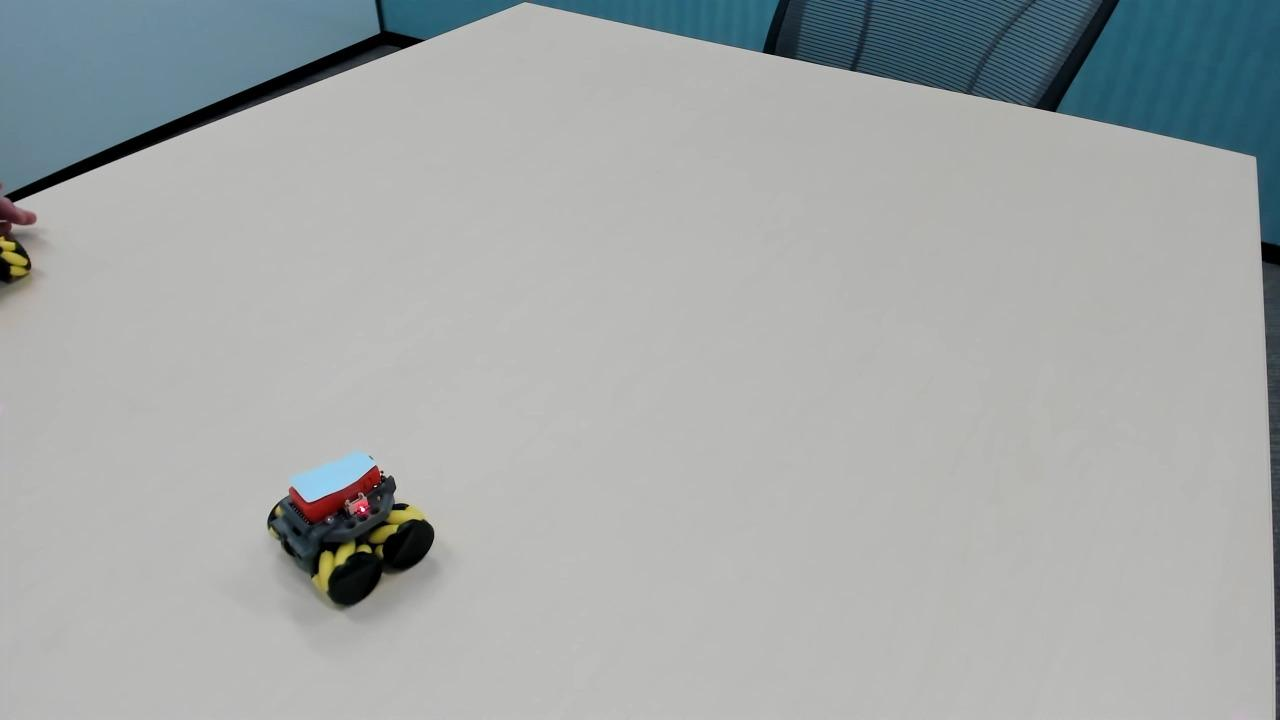B-Robot: (261, 442, 455, 615)
